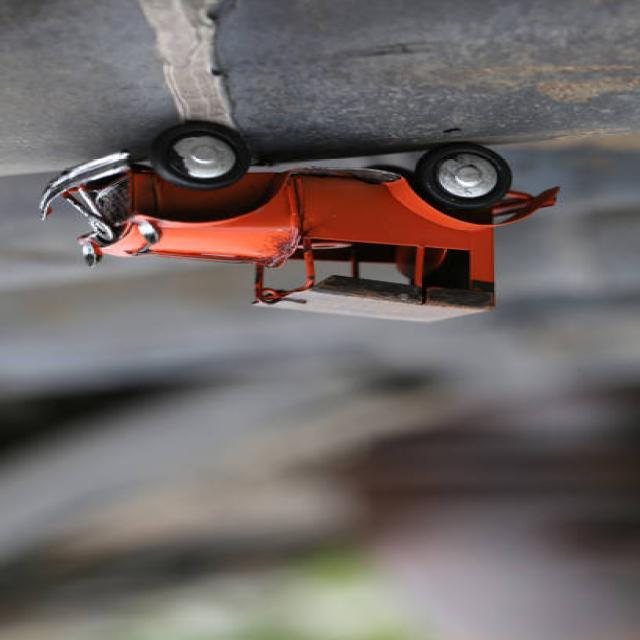Car: (36, 121, 560, 324)
